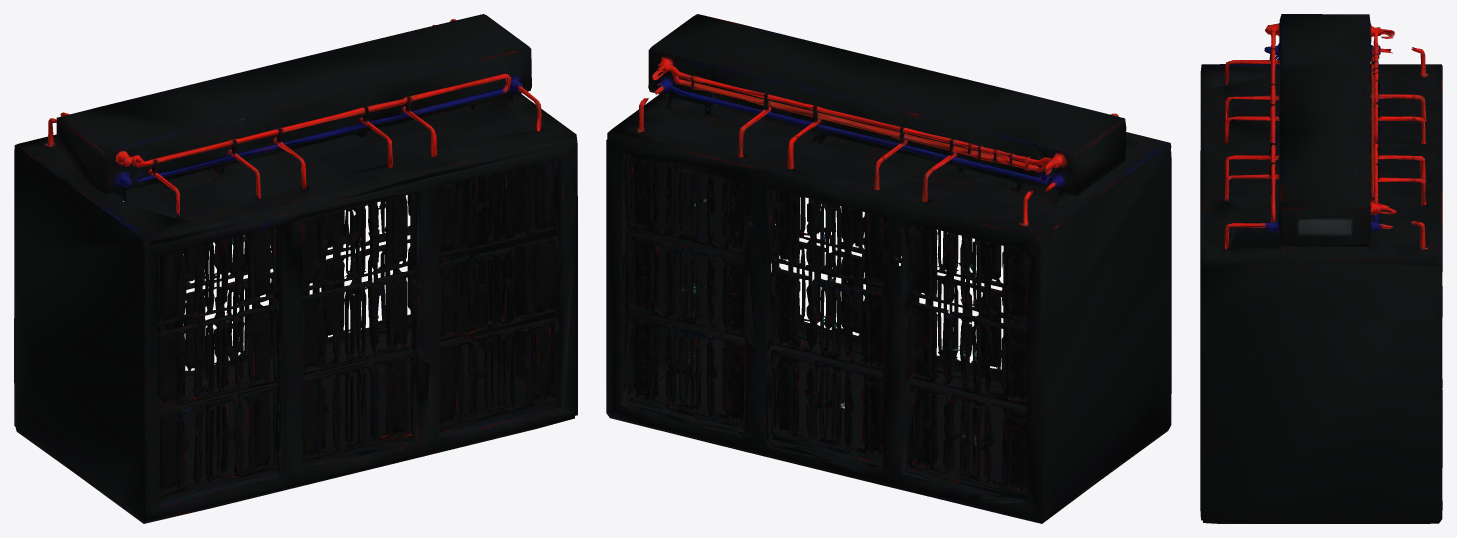
The model's file is ai-rack.glb.
The picture shows the model from 3 angles, left to right: view 1: azimuth 30°, elevation 25°; view 2: azimuth 150°, elevation 25°; view 3: azimuth 270°, elevation 25°; orthographic projection. The views are drawn at different scales.
Visible parts, largest first — view 1: geometry_0; view 2: geometry_0; view 3: geometry_0.
Boxes of the visible parts, bbox=[...] form: geometry_0: bbox=[14, 14, 577, 523]; geometry_0: bbox=[606, 14, 1171, 523]; geometry_0: bbox=[1200, 14, 1442, 523].
Size of the model in its own units: 0.9934 by 0.7489 by 0.5193.
1 material, 1 textured.
